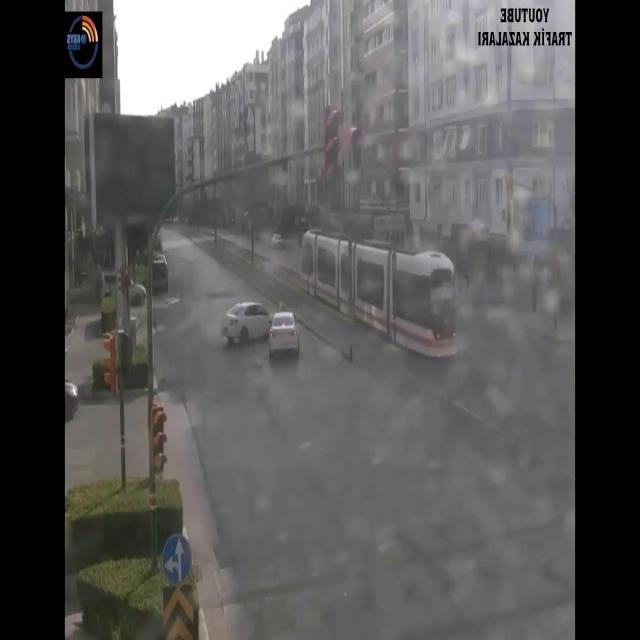accident: (221, 298, 301, 362)
